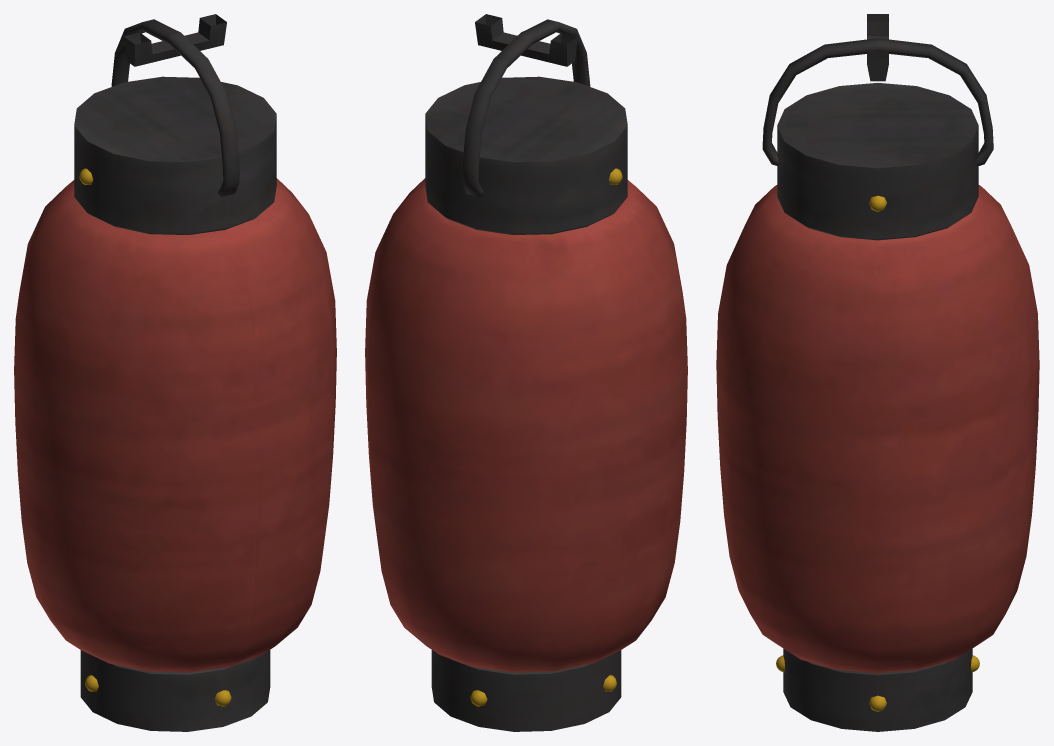
The model's file is SM_ENV_LKNVLD_PaperLantern_D.FBX.
3 renders of one model, left to right at view 1: azimuth 30°, elevation 25°; view 2: azimuth 150°, elevation 25°; view 3: azimuth 270°, elevation 25°, orthographic.
Parts seen in each view (by area): view 1: SM_ENV_LKNVLD_PaperLantern_D; view 2: SM_ENV_LKNVLD_PaperLantern_D; view 3: SM_ENV_LKNVLD_PaperLantern_D.
Part boxes in pixels (left/top/right/bottom): SM_ENV_LKNVLD_PaperLantern_D: left=14, top=14, right=336, bottom=731; SM_ENV_LKNVLD_PaperLantern_D: left=365, top=14, right=687, bottom=731; SM_ENV_LKNVLD_PaperLantern_D: left=716, top=14, right=1039, bottom=731.
Size of the model in its own units: 43.75 by 97.91 by 43.75.
